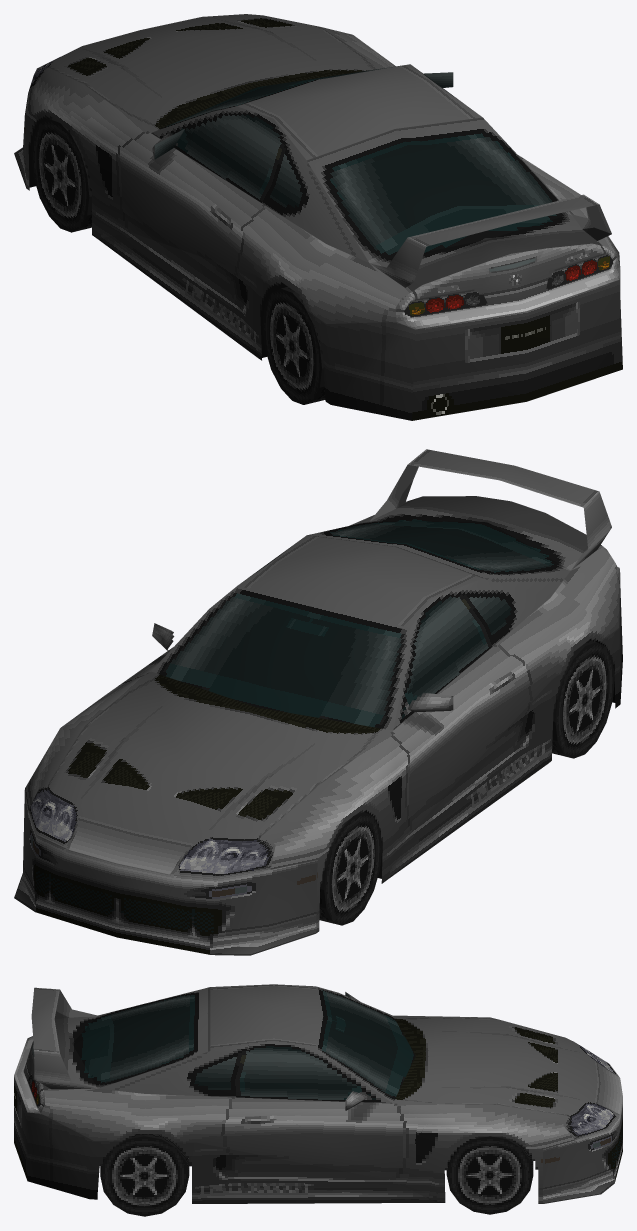
The model's file is GT_SIMULATION__T_RDN.glb.
The picture shows the model from 3 angles, top to bottom: view 1: azimuth 30°, elevation 25°; view 2: azimuth 150°, elevation 25°; view 3: azimuth 270°, elevation 25°; orthographic projection. The views are drawn at different scales.
Parts seen in each view (by area): view 1: Native body LOD0, Native wheel 2, Native wheel 0; view 2: Native body LOD0, Native wheel 2, Native wheel 0; view 3: Native body LOD0, Native wheel 3, Native wheel 1.
Boxes of the visible parts, left/top/right/bottom form: Native body LOD0: left=14, top=14, right=622, bottom=420; Native wheel 2: left=262, top=287, right=325, bottom=404; Native wheel 0: left=31, top=118, right=91, bottom=232; Native body LOD0: left=14, top=449, right=622, bottom=955; Native wheel 2: left=552, top=640, right=614, bottom=758; Native wheel 0: left=319, top=811, right=382, bottom=925; Native body LOD0: left=14, top=984, right=622, bottom=1203; Native wheel 3: left=100, top=1134, right=189, bottom=1216; Native wheel 1: left=446, top=1136, right=533, bottom=1214.
Size of the model in its own units: 1.9 by 1.28 by 4.5.
Materials: 14 (13 with a texture image).
